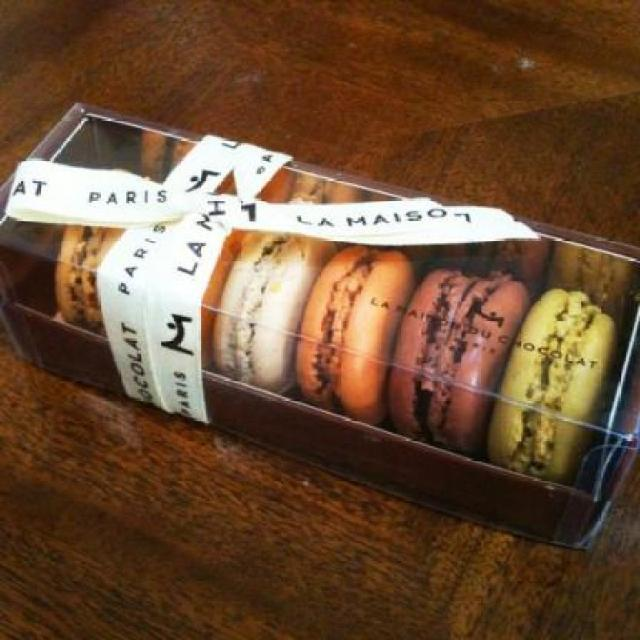Macaron: (31, 150, 640, 506)
